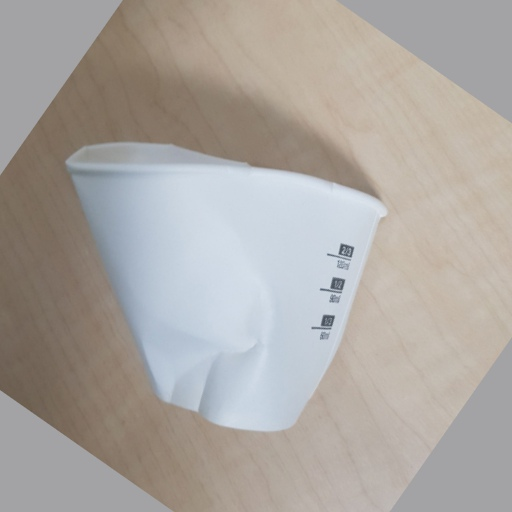Paper_1: (62, 142, 386, 433)
